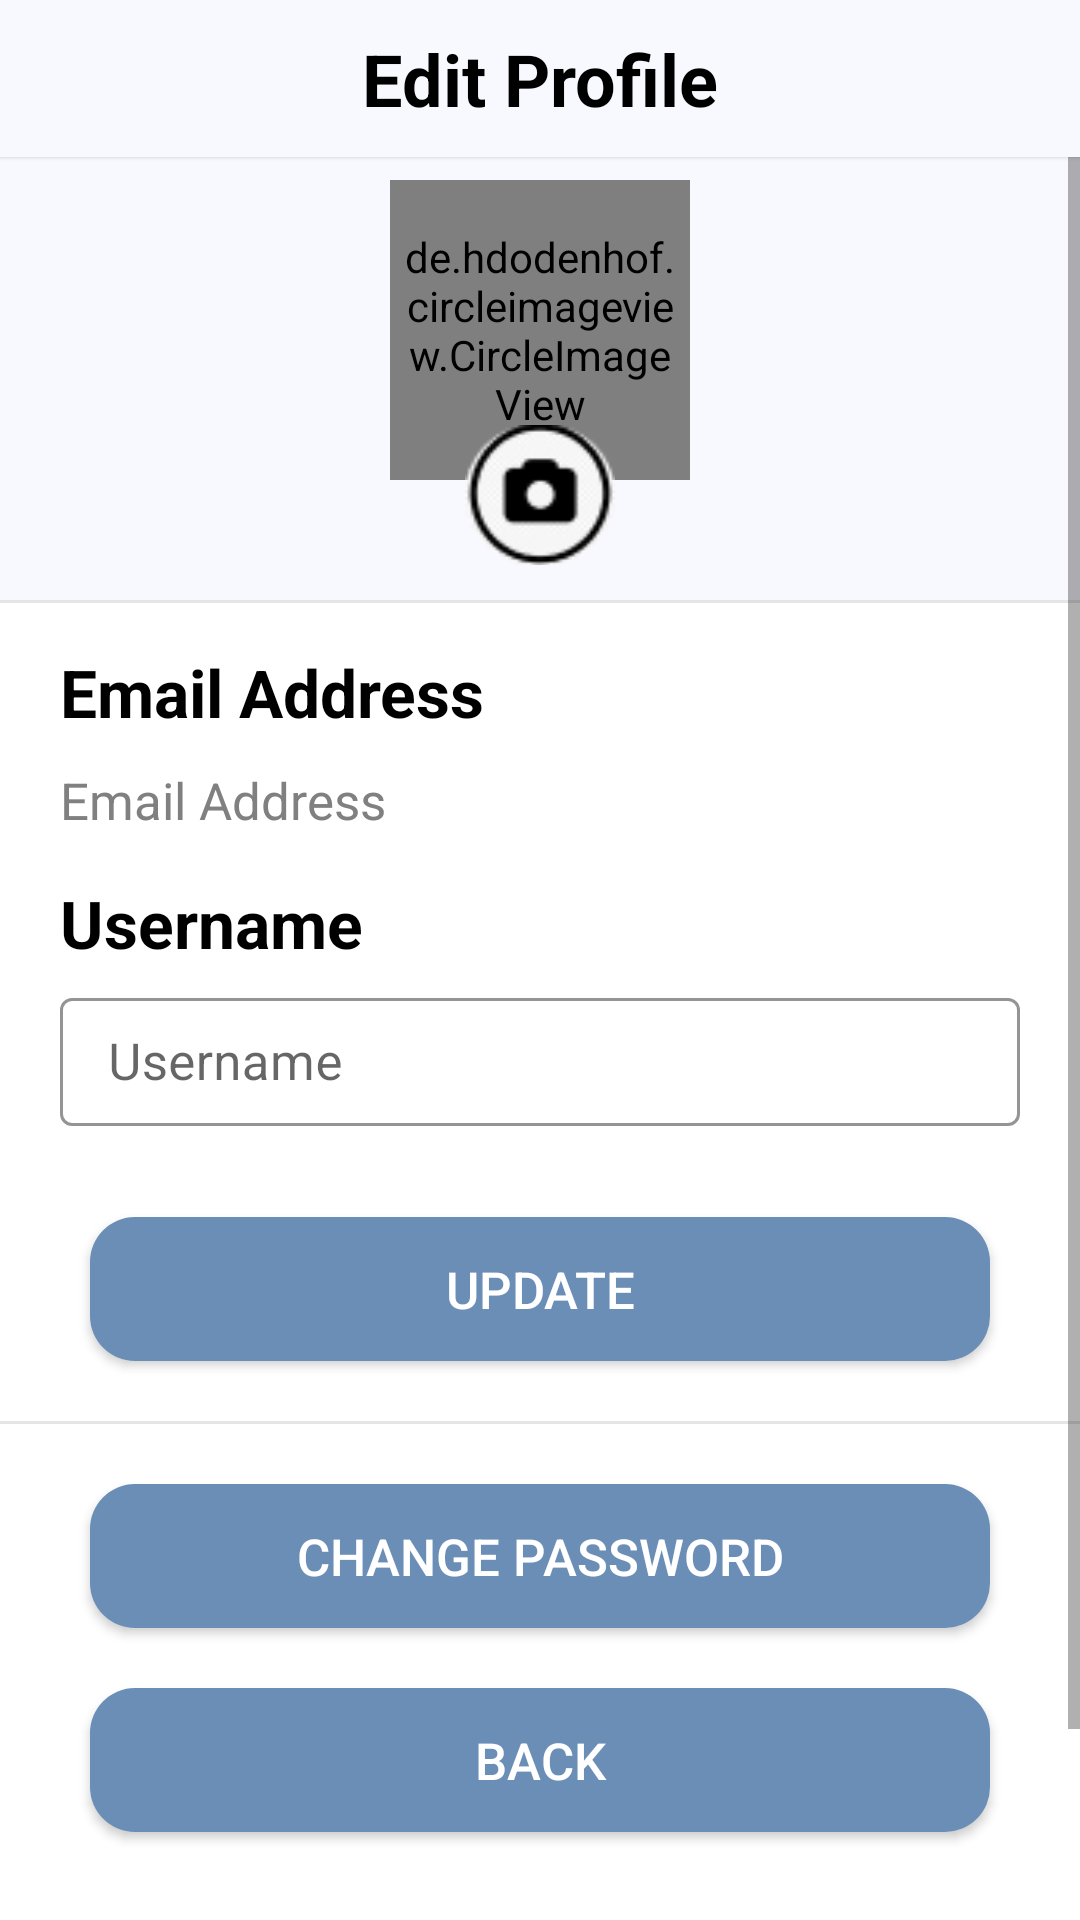

Screen size 1080px×1920px. Icon name, then its center in pixels as [x,y]:
upload pic: [540,495]
